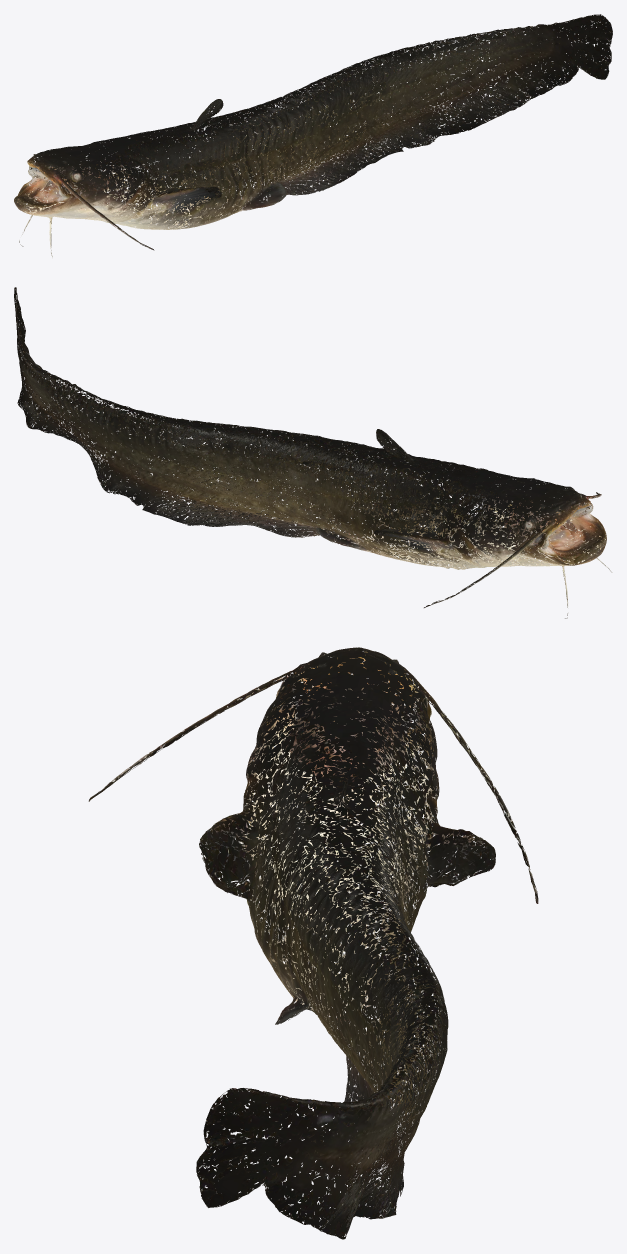
The model's file is catfish.glb.
3 views of the same model, one above another, from view 1: azimuth 30°, elevation 25°; view 2: azimuth 150°, elevation 25°; view 3: azimuth 270°, elevation 25° (orthographic). The views are drawn at different scales.
Parts seen in each view (by area): view 1: Object_6, Object_12; view 2: Object_6, Object_12; view 3: Object_6, Object_12.
Part boxes in pixels (left/top/right/bottom): Object_6: left=17, top=15, right=612, bottom=250; Object_12: left=14, top=14, right=612, bottom=257; Object_6: left=14, top=288, right=606, bottom=615; Object_12: left=14, top=287, right=612, bottom=618; Object_6: left=88, top=651, right=537, bottom=1237; Object_12: left=89, top=647, right=538, bottom=1239.
Size of the model in its own units: 11.07 by 2.57 by 3.86.
2 materials, 2 textured.
